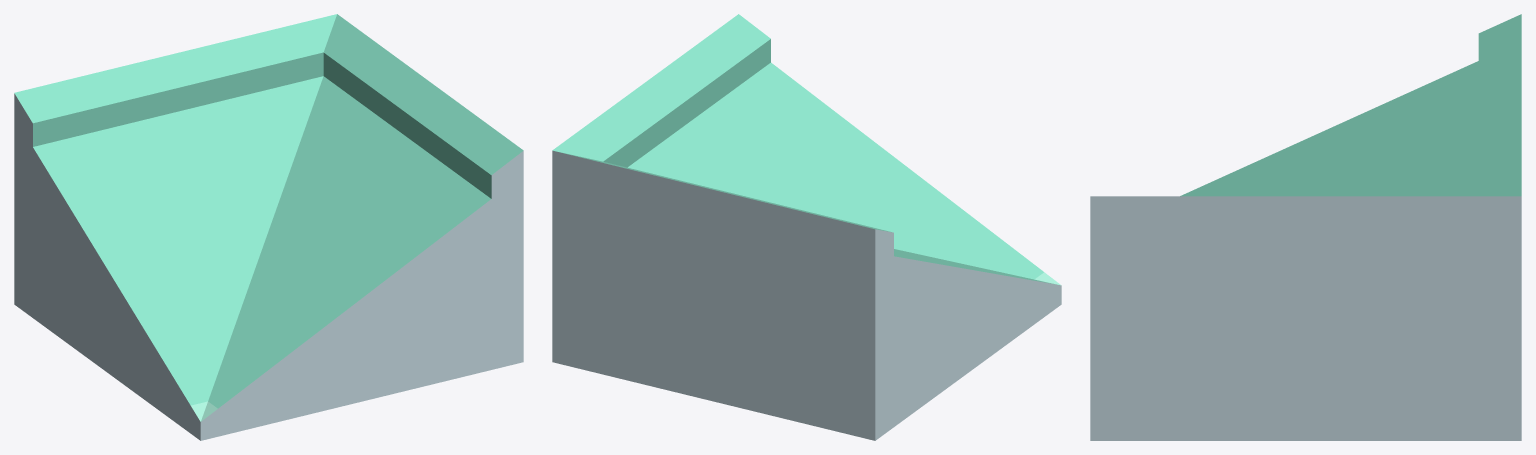
3 renders of one model, left to right at view 1: azimuth 30°, elevation 25°; view 2: azimuth 150°, elevation 25°; view 3: azimuth 270°, elevation 25°, orthographic. The views are drawn at different scales.
Visible parts, largest first — view 1: roofCornerInner; view 2: roofCornerInner; view 3: roofCornerInner.
Part boxes in pixels (<box>): roofCornerInner: <box>14,14,523,440</box>; roofCornerInner: <box>552,14,1061,440</box>; roofCornerInner: <box>1090,14,1521,440</box>.
Size of the model in its own units: 1 by 0.6259 by 1.
